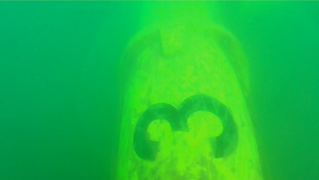3: (133, 93, 238, 161)
pipe: (117, 1, 263, 179)
